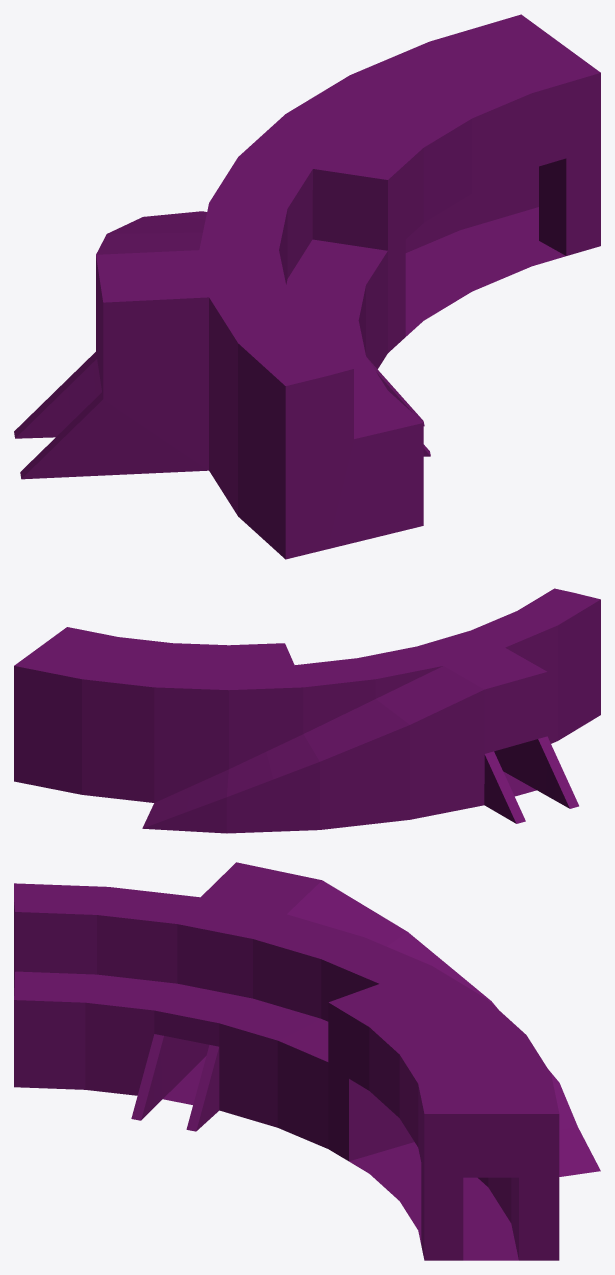
File: courtyard_outer_3_new.fbx
3 renders of one model, top to bottom at view 1: azimuth 30°, elevation 25°; view 2: azimuth 150°, elevation 25°; view 3: azimuth 270°, elevation 25°, orthographic. The views are drawn at different scales.
Parts seen in each view (by area): view 1: courtyard_outer_7; view 2: courtyard_outer_7; view 3: courtyard_outer_7.
Boxes of the visible parts, x1,y1,x2,y2 form: courtyard_outer_7: (14, 14, 600, 559); courtyard_outer_7: (14, 588, 600, 833); courtyard_outer_7: (14, 862, 600, 1260).
Bounding box in the file's own units: 48.32 × 11.88 × 43.05.
